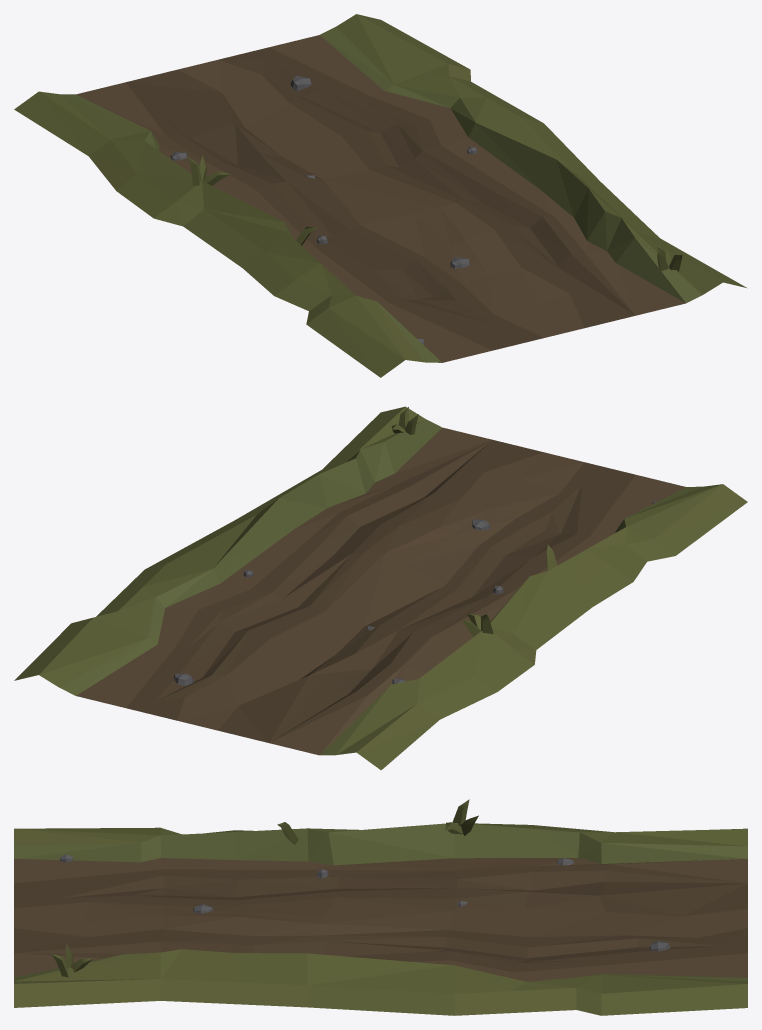
Rendered from road_straight.glb.
The picture shows the model from 3 angles, top to bottom: view 1: azimuth 30°, elevation 25°; view 2: azimuth 150°, elevation 25°; view 3: azimuth 270°, elevation 25°; orthographic projection.
Visible parts, largest first — view 1: SM_Env_Road_Straight_01; view 2: SM_Env_Road_Straight_01; view 3: SM_Env_Road_Straight_01.
Boxes of the visible parts, x1,y1,x2,y2 form: SM_Env_Road_Straight_01: (14, 14, 747, 377); SM_Env_Road_Straight_01: (14, 406, 747, 770); SM_Env_Road_Straight_01: (14, 799, 747, 1015).
Size of the model in its own units: 369 by 49.9 by 600.
1 material, 1 textured.
